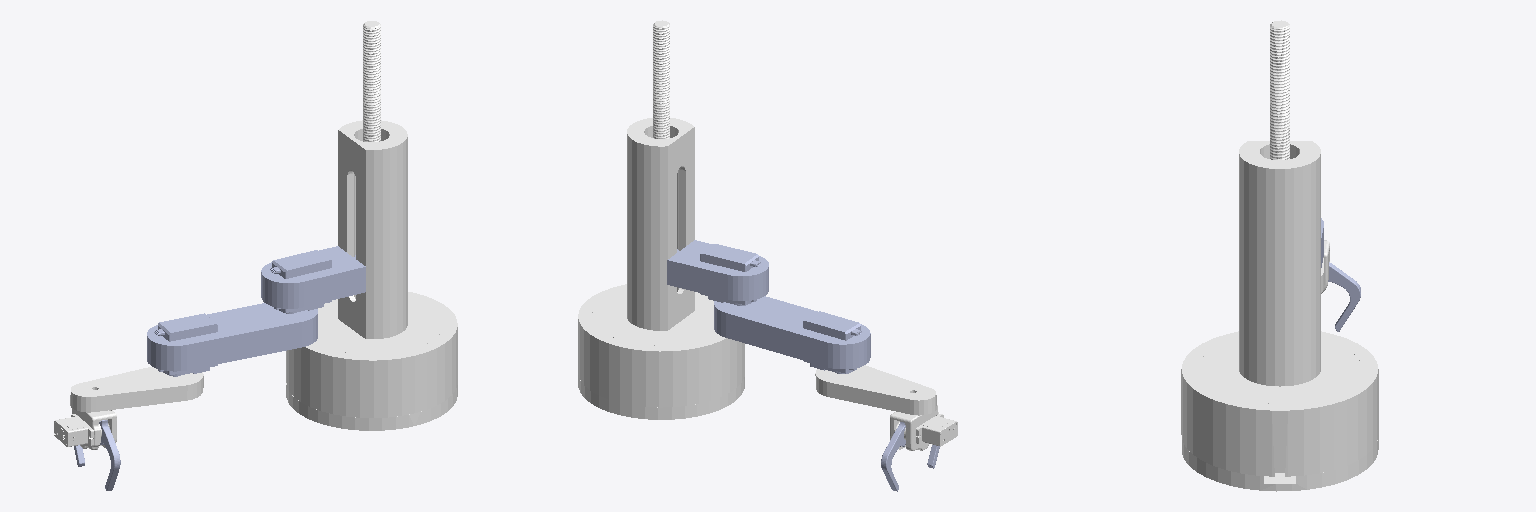
URDF robot description (sg):
<?xml version="1.0" encoding="utf-8"?>
<!-- This URDF was automatically created by SolidWorks to URDF Exporter! Originally created by [author] ([email redacted]) 
     Commit Version: 1.5.1-0-g916b5db  Build Version: 1.5.7152.31018
     For more information, please see http://wiki.ros.org/sw_urdf_exporter -->
<robot
  name="sg">
  <link
    name="base_link">
    <inertial>
      <origin
        xyz="0.0106772900713487 -0.1710070387097 -1.87200468439584E-09"
        rpy="0 0 0" />
      <mass
        value="2.74541777293957" />
      <inertia
        ixx="0.00382413685264724"
        ixy="-2.98374022975497E-06"
        ixz="2.39860933769004E-11"
        iyy="0.00600053273897555"
        iyz="3.32504351244898E-10"
        izz="0.00379898220168142" />
    </inertial>
    <visual>
      <origin
        xyz="0 0 0"
        rpy="0 0 0" />
      <geometry>
        <mesh
          filename="package://sg/meshes/base_link.STL" />
      </geometry>
      <material
        name="">
        <color
          rgba="1 1 1 1" />
      </material>
    </visual>
    <collision>
      <origin
        xyz="0 0 0"
        rpy="0 0 0" />
      <geometry>
        <mesh
          filename="package://sg/meshes/base_link.STL" />
      </geometry>
    </collision>
  </link>
  <link
    name="prismatic_link">
    <inertial>
      <origin
        xyz="0.0127640697422493 0.0463525957052715 0.0842638148201117"
        rpy="0 0 0" />
      <mass
        value="0.070294666005926" />
      <inertia
        ixx="2.40037641064892E-05"
        ixy="-3.46482664427356E-06"
        ixz="-1.11014741540259E-08"
        iyy="1.2375403757174E-05"
        iyz="-4.03522045563068E-08"
        izz="2.80885088048895E-05" />
    </inertial>
    <visual>
      <origin
        xyz="0 0 0"
        rpy="0 0 0" />
      <geometry>
        <mesh
          filename="package://sg/meshes/prismatic_link.STL" />
      </geometry>
      <material
        name="">
        <color
          rgba="0.792156862745098 0.819607843137255 0.933333333333333 1" />
      </material>
    </visual>
    <collision>
      <origin
        xyz="0 0 0"
        rpy="0 0 0" />
      <geometry>
        <mesh
          filename="package://sg/meshes/prismatic_link.STL" />
      </geometry>
    </collision>
  </link>
  <joint
    name="prismatic_joint"
    type="prismatic">
    <origin
      xyz="0.010624 0 -0.017798"
      rpy="-3.1416 0 -1.8395" />
    <parent
      link="base_link" />
    <child
      link="prismatic_link" />
    <axis
      xyz="0 0 1" />
    <limit
      lower="0"
      upper="100"
      effort="0"
      velocity="0" />
  </joint>
  <link
    name="rotate1_link">
    <inertial>
      <origin
        xyz="0.0492358258451967 0.0168319497489518 1.65217665937245E-13"
        rpy="0 0 0" />
      <mass
        value="0.108807423101855" />
      <inertia
        ixx="1.8033260032552E-05"
        ixy="-4.18158902541371E-08"
        ixz="-6.19823636436901E-12"
        iyy="0.000112008922993143"
        iyz="4.39702449137292E-17"
        izz="0.000105065651157087" />
    </inertial>
    <visual>
      <origin
        xyz="0 0 0"
        rpy="0 0 0" />
      <geometry>
        <mesh
          filename="package://sg/meshes/rotate1_link.STL" />
      </geometry>
      <material
        name="">
        <color
          rgba="0.792156862745098 0.819607843137255 0.933333333333333 1" />
      </material>
    </visual>
    <collision>
      <origin
        xyz="0 0 0"
        rpy="0 0 0" />
      <geometry>
        <mesh
          filename="package://sg/meshes/rotate1_link.STL" />
      </geometry>
    </collision>
  </link>
  <joint
    name="rotate1_joint"
    type="revolute">
    <origin
      xyz="0.01779 0.064603 0.09825"
      rpy="1.5708 0 1.3834" />
    <parent
      link="prismatic_link" />
    <child
      link="rotate1_link" />
    <axis
      xyz="0 1 0" />
    <limit
      lower="0"
      upper="0"
      effort="0"
      velocity="0" />
  </joint>
  <link
    name="rotate2_ink">
    <inertial>
      <origin
        xyz="0.00086476424561344 -0.00162723281599192 0.00757252072679243"
        rpy="0 0 0" />
      <mass
        value="0.0561685872042524" />
      <inertia
        ixx="2.7382969834396E-05"
        ixy="-3.4669972679723E-08"
        ixz="2.06077710897114E-07"
        iyy="3.07387598441115E-05"
        iyz="9.82303892347549E-08"
        izz="6.29807798586307E-06" />
    </inertial>
    <visual>
      <origin
        xyz="0 0 0"
        rpy="0 0 0" />
      <geometry>
        <mesh
          filename="package://sg/meshes/rotate2_ink.STL" />
      </geometry>
      <material
        name="">
        <color
          rgba="1 1 1 1" />
      </material>
    </visual>
    <collision>
      <origin
        xyz="0 0 0"
        rpy="0 0 0" />
      <geometry>
        <mesh
          filename="package://sg/meshes/rotate2_ink.STL" />
      </geometry>
    </collision>
  </link>
  <joint
    name="rotate2_joint"
    type="revolute">
    <origin
      xyz="0.12405 0.0495 -0.000605"
      rpy="-2.8592 -1.5708 -0.30286" />
    <parent
      link="rotate1_link" />
    <child
      link="rotate2_ink" />
    <axis
      xyz="0 -1 0" />
    <limit
      lower="0"
      upper="0"
      effort="0"
      velocity="0" />
  </joint>
  <link
    name="rotate3_link">
    <inertial>
      <origin
        xyz="0.0128478918837995 0.00316952279411861 0.00250000111797158"
        rpy="0 0 0" />
      <mass
        value="0.00521613527681875" />
      <inertia
        ixx="7.05022849458707E-07"
        ixy="-8.97010224006317E-08"
        ixz="4.03459026787501E-14"
        iyy="6.16523184563464E-07"
        iyz="3.99876586202866E-14"
        izz="1.30010386484532E-06" />
    </inertial>
    <visual>
      <origin
        xyz="0 0 0"
        rpy="0 0 0" />
      <geometry>
        <mesh
          filename="package://sg/meshes/rotate3_link.STL" />
      </geometry>
      <material
        name="">
        <color
          rgba="0.792156862745098 0.819607843137255 0.933333333333333 1" />
      </material>
    </visual>
    <collision>
      <origin
        xyz="0 0 0"
        rpy="0 0 0" />
      <geometry>
        <mesh
          filename="package://sg/meshes/rotate3_link.STL" />
      </geometry>
    </collision>
  </link>
  <joint
    name="rotate3_joint"
    type="revolute">
    <origin
      xyz="0.0092582 -0.0165 0.024703"
      rpy="0 0 -2.6543" />
    <parent
      link="rotate2_ink" />
    <child
      link="rotate3_link" />
    <axis
      xyz="0 0 1" />
    <limit
      lower="0"
      upper="0"
      effort="0"
      velocity="0" />
  </joint>
</robot>

--- Render facts (derived) ---
Views: 3 orthographic renders of the robot side by side, from view 1: azimuth 30°, elevation 25°; view 2: azimuth 150°, elevation 25°; view 3: azimuth 270°, elevation 25°.
Robot: sg — 5 links, 4 joints (3 revolute, 1 prismatic); root link base_link; default pose: every joint at zero.
Links seen in each view (by area): view 1: base_link, rotate1_link, rotate2_ink, prismatic_link, rotate3_link; view 2: base_link, rotate1_link, rotate2_ink, prismatic_link, rotate3_link; view 3: base_link, rotate3_link.
Boxes of the visible links, left/top/right/bottom form: base_link: left=286, top=21, right=457, bottom=430; rotate1_link: left=147, top=303, right=317, bottom=376; rotate2_ink: left=54, top=367, right=203, bottom=449; prismatic_link: left=261, top=246, right=365, bottom=313; rotate3_link: left=74, top=420, right=120, bottom=490; base_link: left=578, top=20, right=744, bottom=419; rotate1_link: left=714, top=296, right=870, bottom=373; rotate2_ink: left=815, top=365, right=957, bottom=450; prismatic_link: left=667, top=240, right=768, bottom=305; rotate3_link: left=881, top=422, right=939, bottom=491; base_link: left=1181, top=20, right=1378, bottom=491; rotate3_link: left=1328, top=262, right=1360, bottom=331.
Size in the robot's own frame: 0.3096 by 0.1216 by 0.3101 metres.
Meshes: 5 distinct files referenced, 5 mesh visuals loaded (5 binary STL).